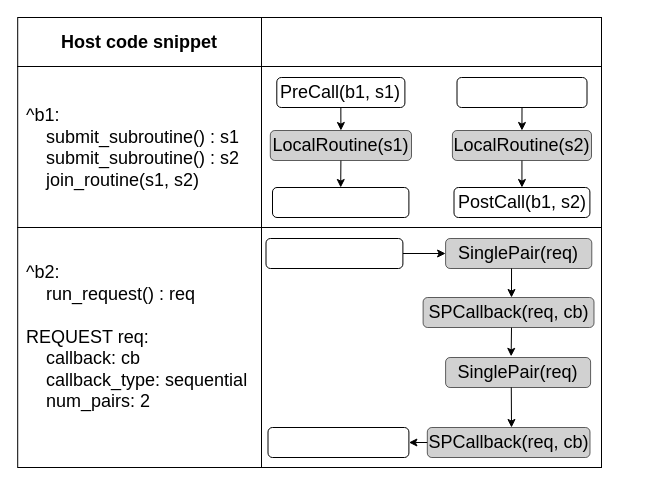
Image size: 649x485. Some labels were removed from this diagram. The shapes that lost their labels are listed below. From the top down, each one's centre as x and y in pixels, then its label:
point (431, 41): Task Graph
point (521, 92): PreCall(b1, s2)
point (340, 202): PostCall(b1, s1)
point (334, 253): PreCall(b2, req)
point (338, 442): PostCall(b2, req)
